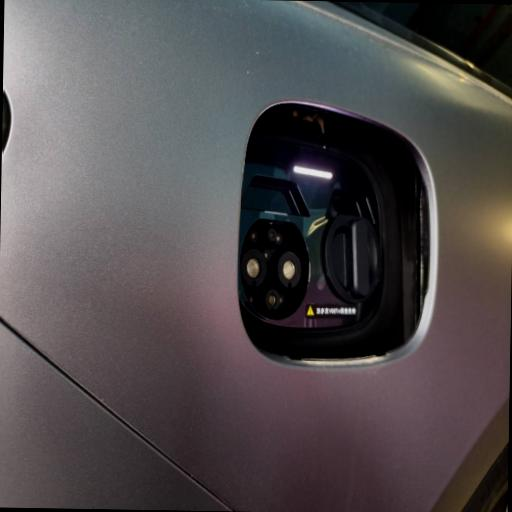DC_hole: (240, 248, 268, 290), (276, 250, 302, 290)
PE: (264, 287, 282, 314)
charging_port: (238, 217, 312, 324)
